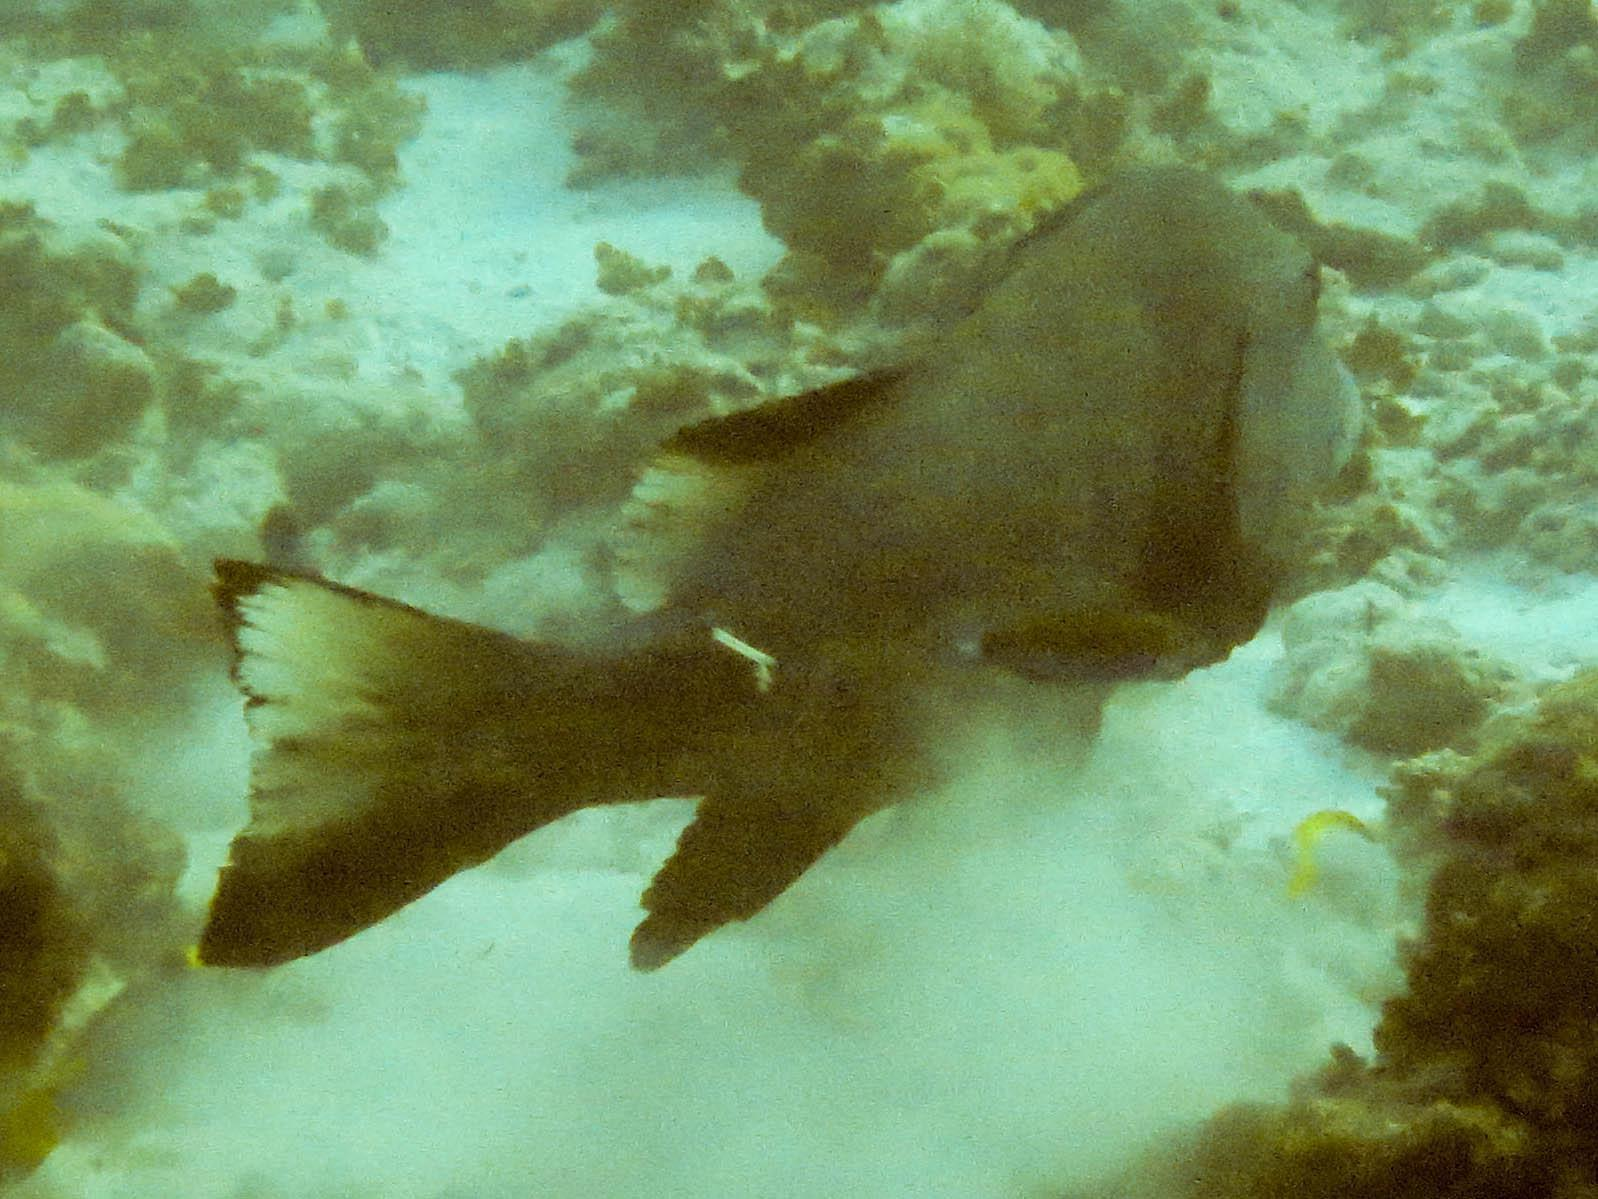Fish: (140, 144, 1408, 1016)
